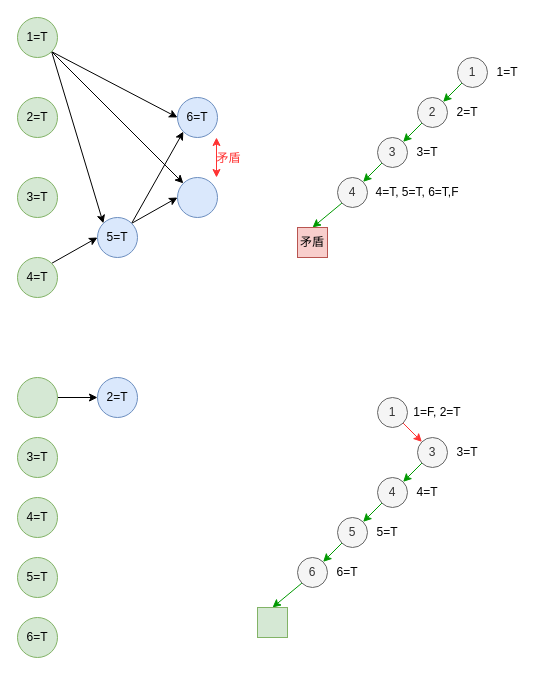
Image size: 555x675. Some labels were removed from this diagram. Each missing label, with the centre of its shape:
1=F: (37,397)
6=F: (197,197)
SAT: (272,622)
